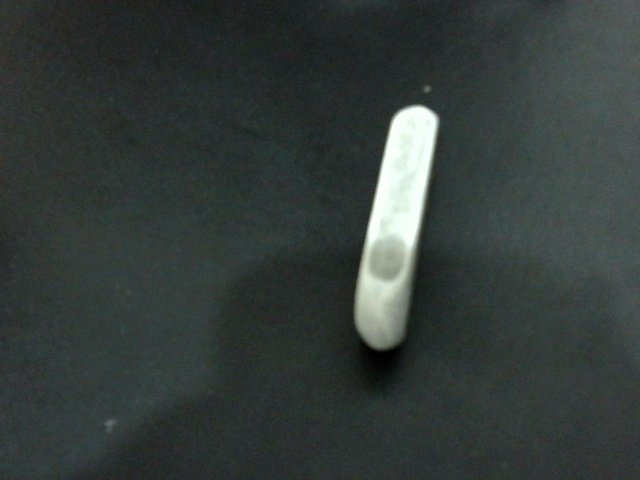eraser: (354, 77, 460, 356)
